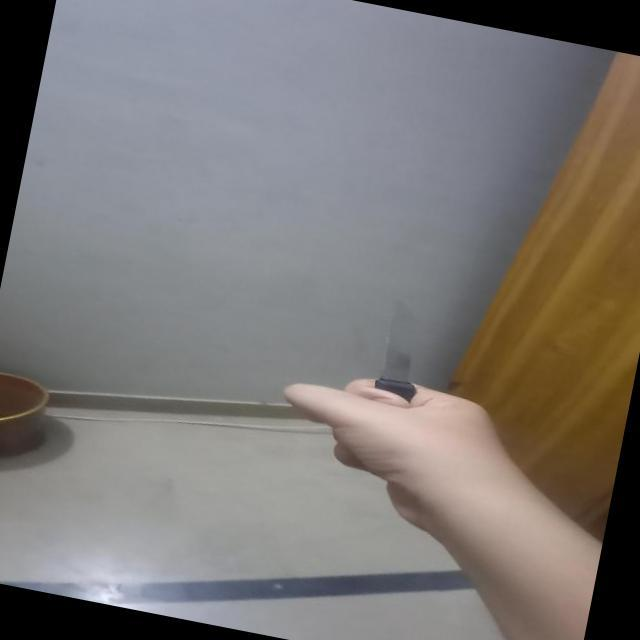Knife: (356, 282, 441, 429)
